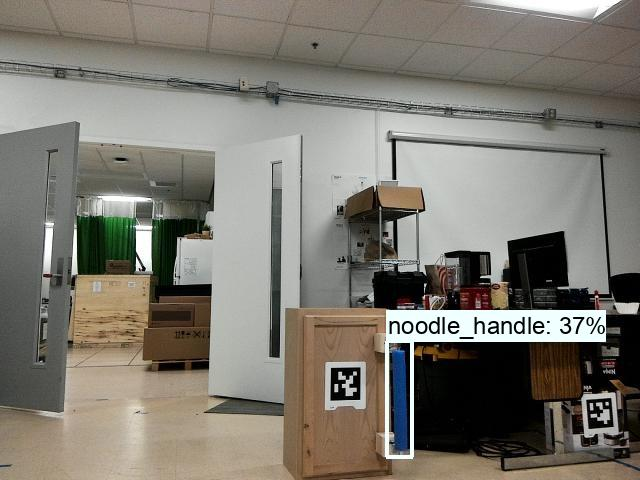noodle_handle: (387, 347, 409, 461)
